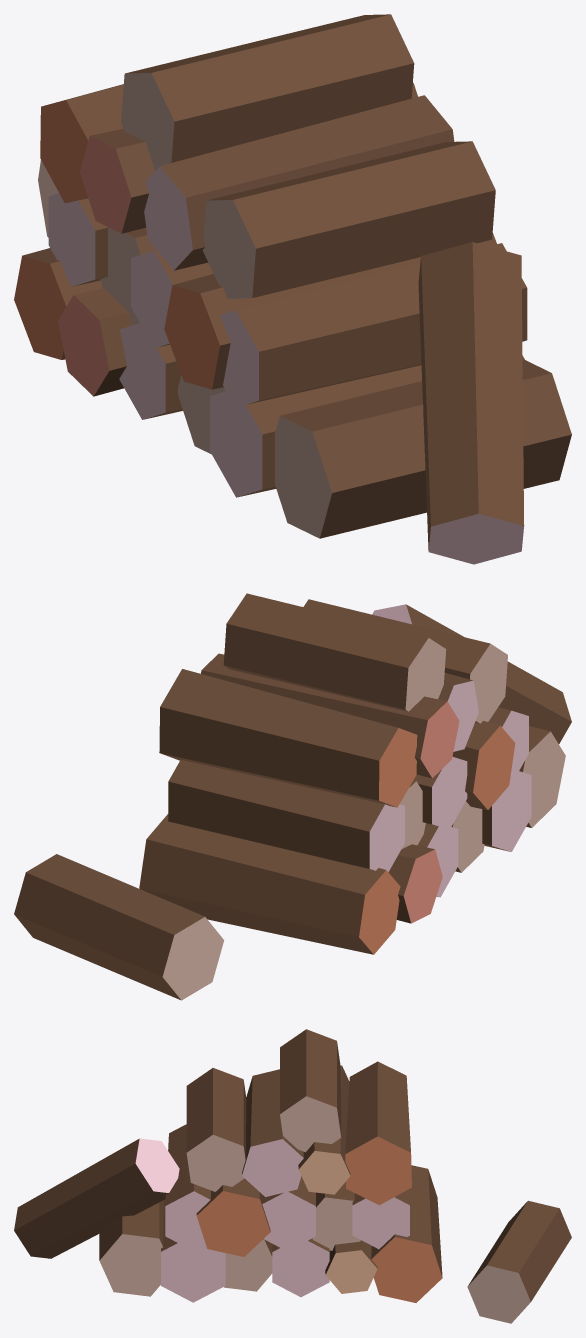
The model's file is lenha_pacote.glb.
3 views of the same model, one above another, from view 1: azimuth 30°, elevation 25°; view 2: azimuth 150°, elevation 25°; view 3: azimuth 270°, elevation 25° (orthographic). The views are drawn at different scales.
Parts seen in each view (by area): view 1: lenha_pacote; view 2: lenha_pacote; view 3: lenha_pacote.
Part boxes in pixels (bbox=[...]): lenha_pacote: bbox=[14, 14, 571, 564]; lenha_pacote: bbox=[14, 593, 571, 1000]; lenha_pacote: bbox=[14, 1029, 571, 1323].
Size of the model in its own units: 0.6107 by 0.5442 by 1.36.
Materials: 1 (1 with a texture image).
